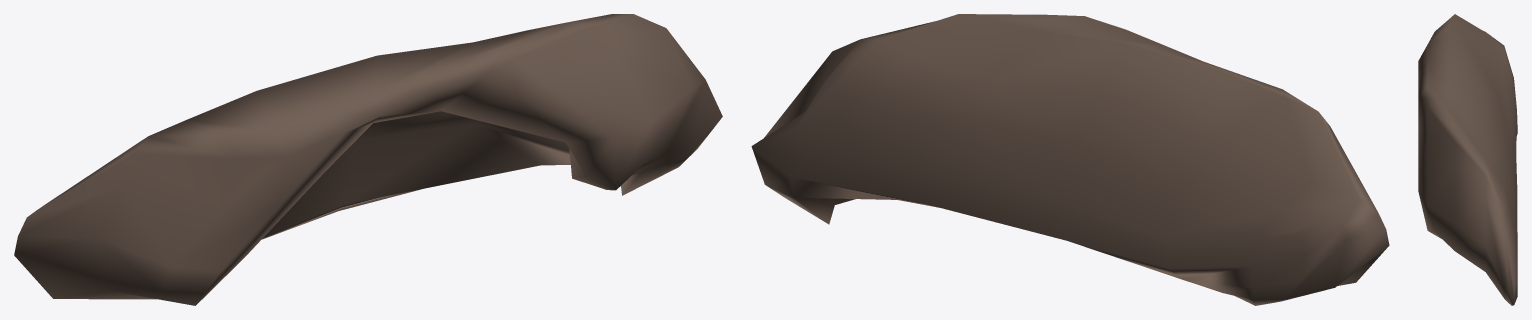
The model's file is SM_Cave_L.fbx.
3 views of the same model, side by side, from view 1: azimuth 30°, elevation 25°; view 2: azimuth 150°, elevation 25°; view 3: azimuth 270°, elevation 25° (orthographic). The views are drawn at different scales.
Parts seen in each view (by area): view 1: SM_Cave_L; view 2: SM_Cave_L; view 3: SM_Cave_L.
Part boxes in pixels (x1,y1,x2,y2): SM_Cave_L: (14, 14, 722, 305); SM_Cave_L: (751, 14, 1389, 305); SM_Cave_L: (1418, 14, 1517, 305).
Bounding box in the file's own units: 3177 × 1041 × 630.
